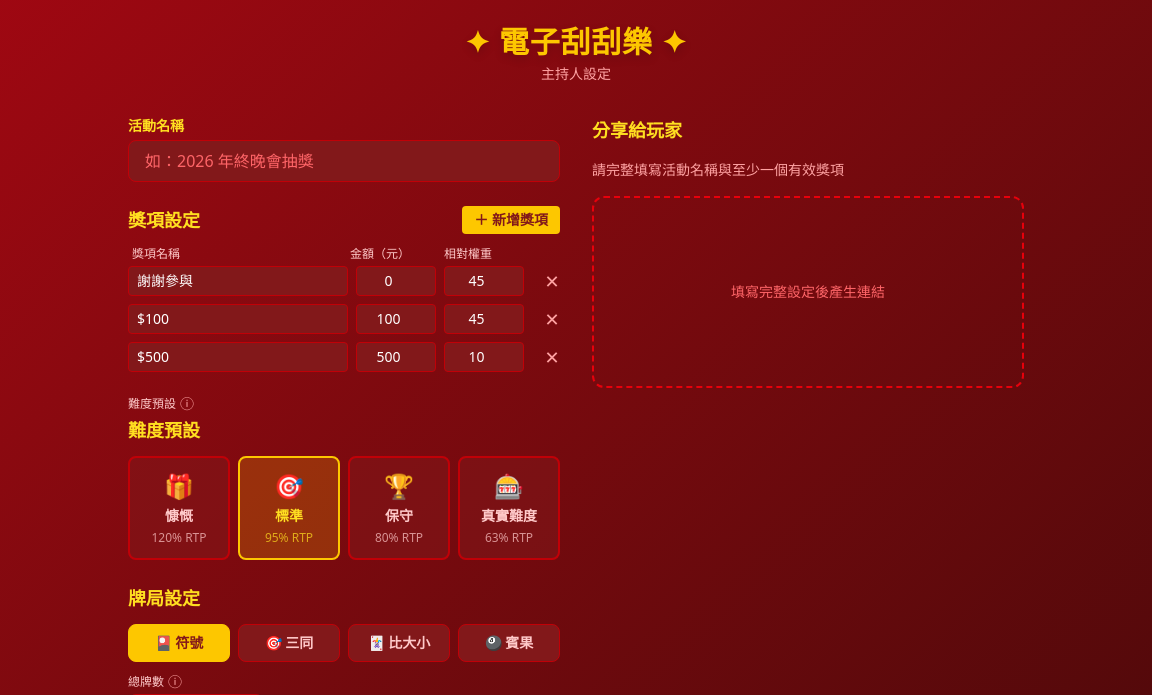
Test: HostPage › 選擇賓果玩法後 PrizeEditor 應顯示 disabled 遮罩
What coordinates should you click on to do the following:
click the radio button labelled "🎱 賓果"
I would click on:
 (509, 643)
Its box is [458,624,560,662].
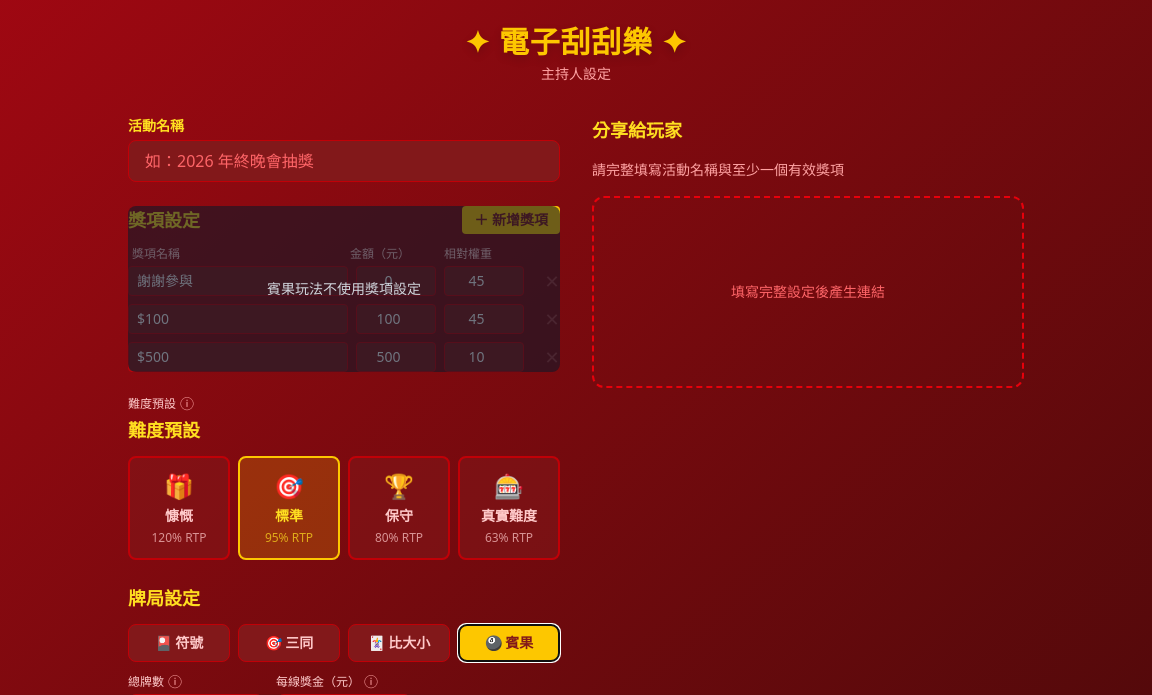
Expected: the text "賓果玩法不使用獎項設定" is shown, [267,279,421,299]
